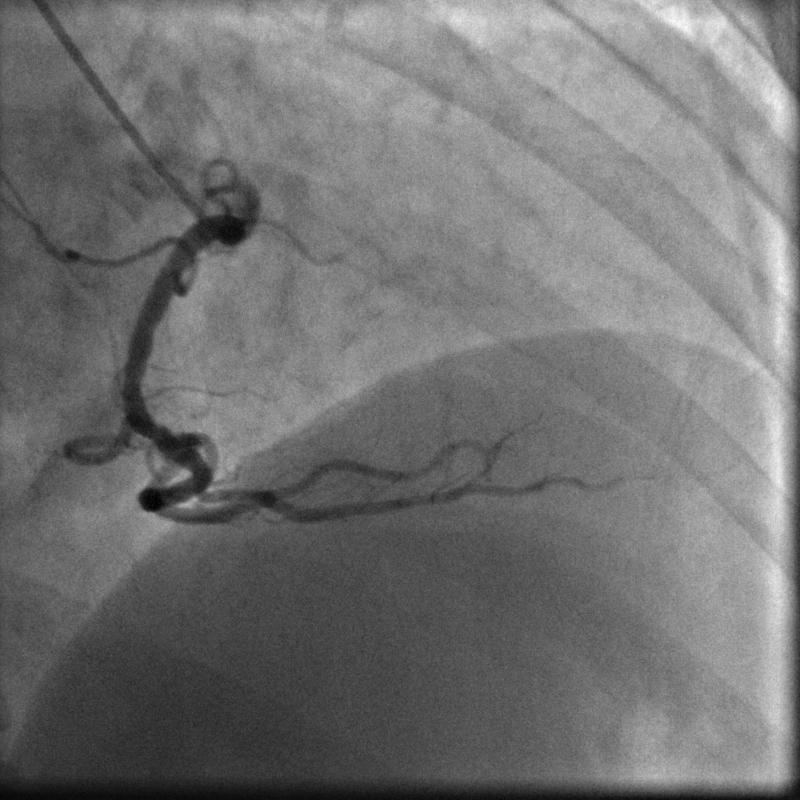Stenosis: (128, 408, 178, 447)
